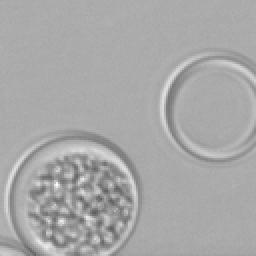picoshell: (6, 132, 140, 254), (154, 50, 254, 162), (0, 236, 32, 254)
